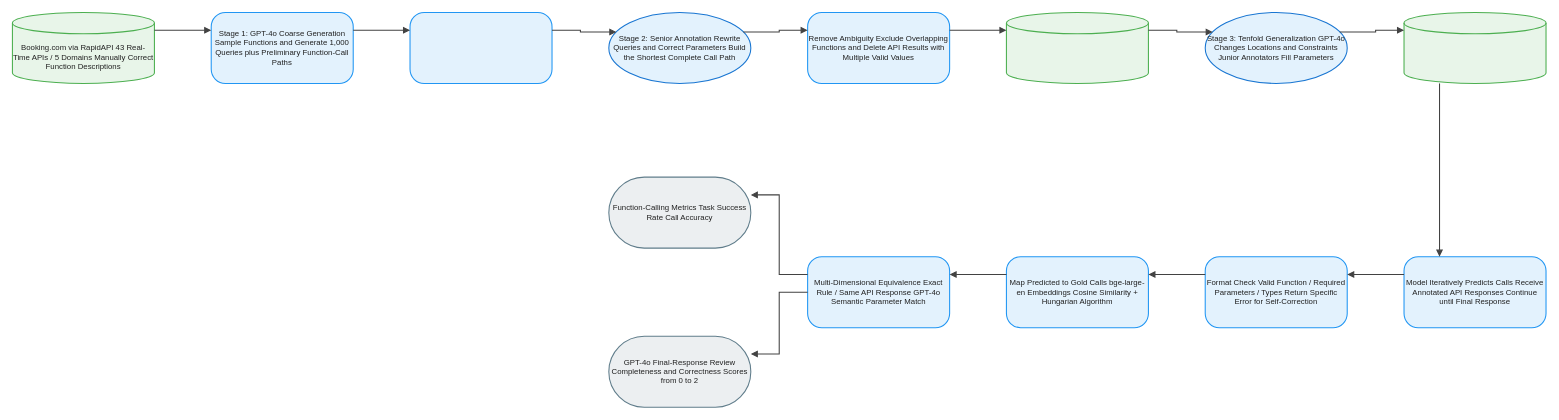
Image size: 1559x420. Some labels were removed from this diagram. Here are the shapes that lost their labels. From the top down, the box of each, then its label:
(409, 12, 552, 84): Select 100 Relatively Complete Samples Cover Diverse Steps and Call Paths
(1006, 12, 1149, 84): Quality-Checked Templates 100 Error-Free Complex Call Paths
(1403, 12, 1546, 84): ComplexFuncBench 1,000 Samples 600 Single-Domain + 400 Cross-Domain
